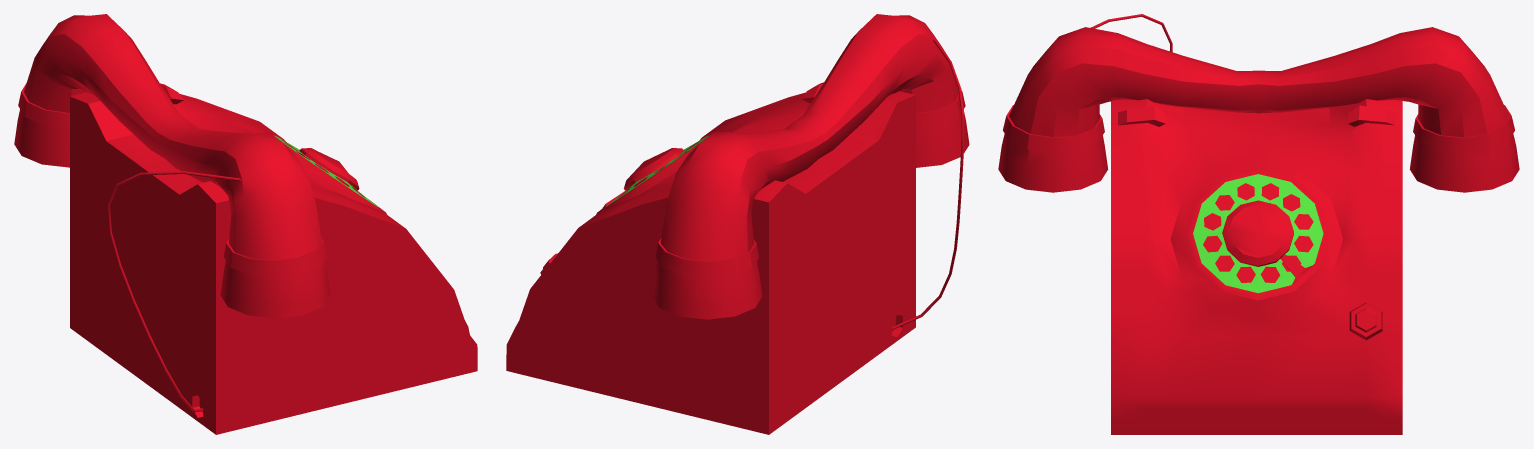
The model's file is telefoon.fbx.
The picture shows the model from 3 angles, left to right: view 1: azimuth 30°, elevation 25°; view 2: azimuth 150°, elevation 25°; view 3: azimuth 270°, elevation 25°; orthographic projection.
Parts seen in each view (by area): view 1: Cylinder.001; view 2: Cylinder.001; view 3: Cylinder.001, Cylinder.002.
Part boxes in pixels (<box>): Cylinder.001: <box>14,14,477,434</box>; Cylinder.001: <box>506,14,969,434</box>; Cylinder.001: <box>998,14,1519,434</box>; Cylinder.002: <box>1193,174,1323,293</box>.
Size of the model in its own units: 24.41 by 20 by 32.48.
